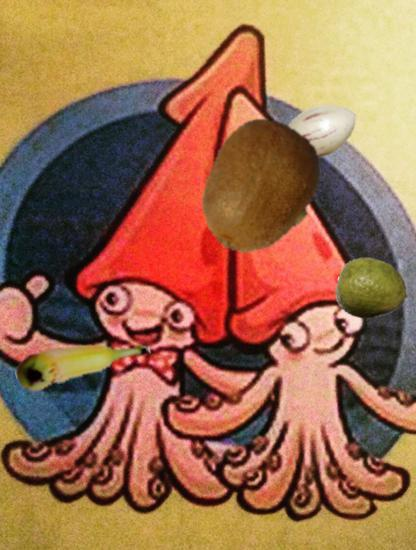Banana: (14, 294, 152, 432)
Guava: (336, 254, 408, 326)
Kiwi: (188, 117, 330, 259)
Pepino: (286, 94, 360, 168)
